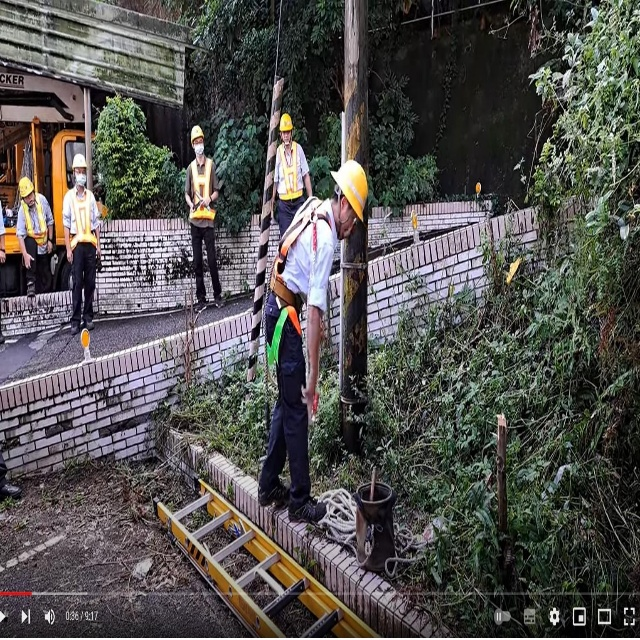Arnes_seguridad: (265, 198, 321, 373)
